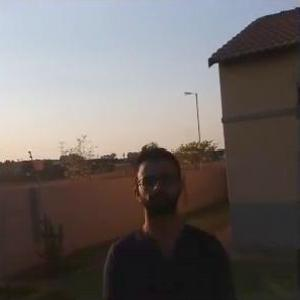follow: (99, 135, 240, 299)
